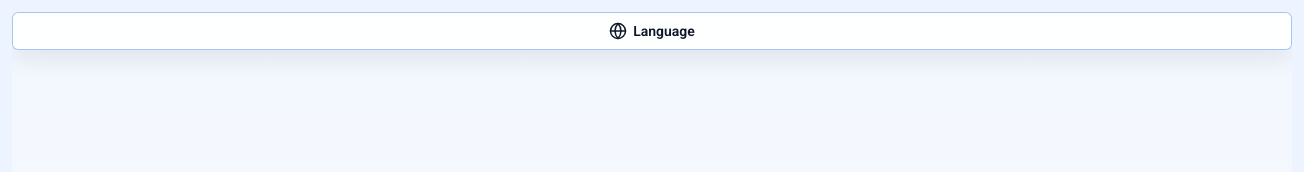
Test: LanguageSwitcher › cycles from null to en on click
Click the button at (652, 31), box [12,12,1292,50]
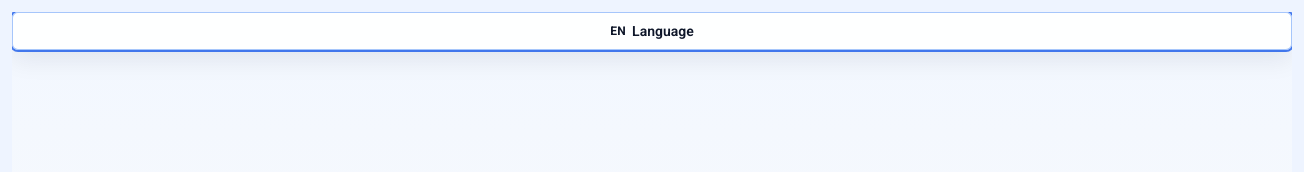
Result: the button with aria-label "Language: English" is shown at [12,12,1292,50]
